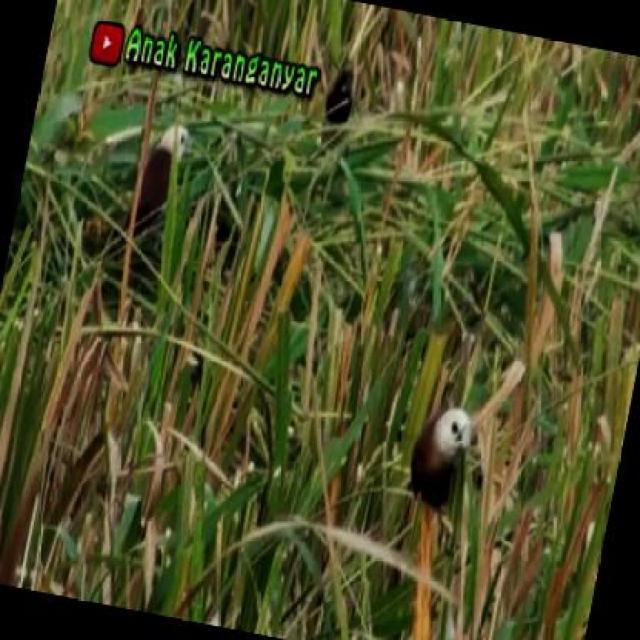Bird: (413, 391, 472, 549), (131, 124, 188, 241), (324, 59, 355, 138)
